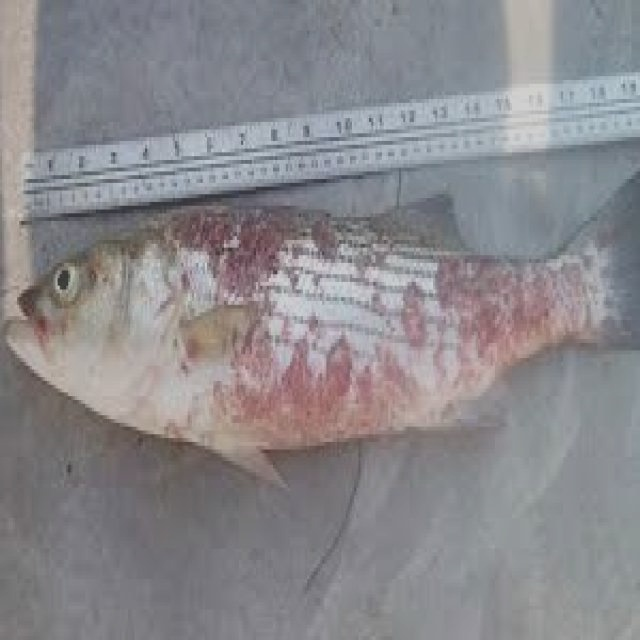EUS Disease: (3, 194, 640, 482)
